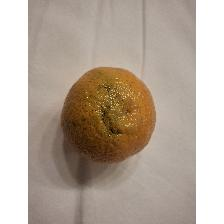Mandarine: (58, 62, 160, 166)
